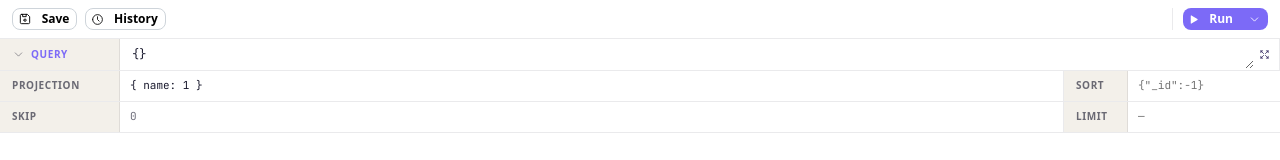
Scenario: QueryBar — collapsed advanced count indicator › states how many are set when collapsed — one value
This screenshot has width=1280, height=160.
Click the button "query" at (60, 54), box [0, 39, 120, 70]
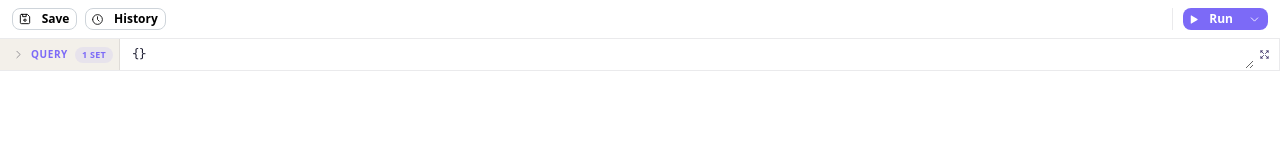
Now the text "1 set" is shown, box [82, 48, 106, 62]
